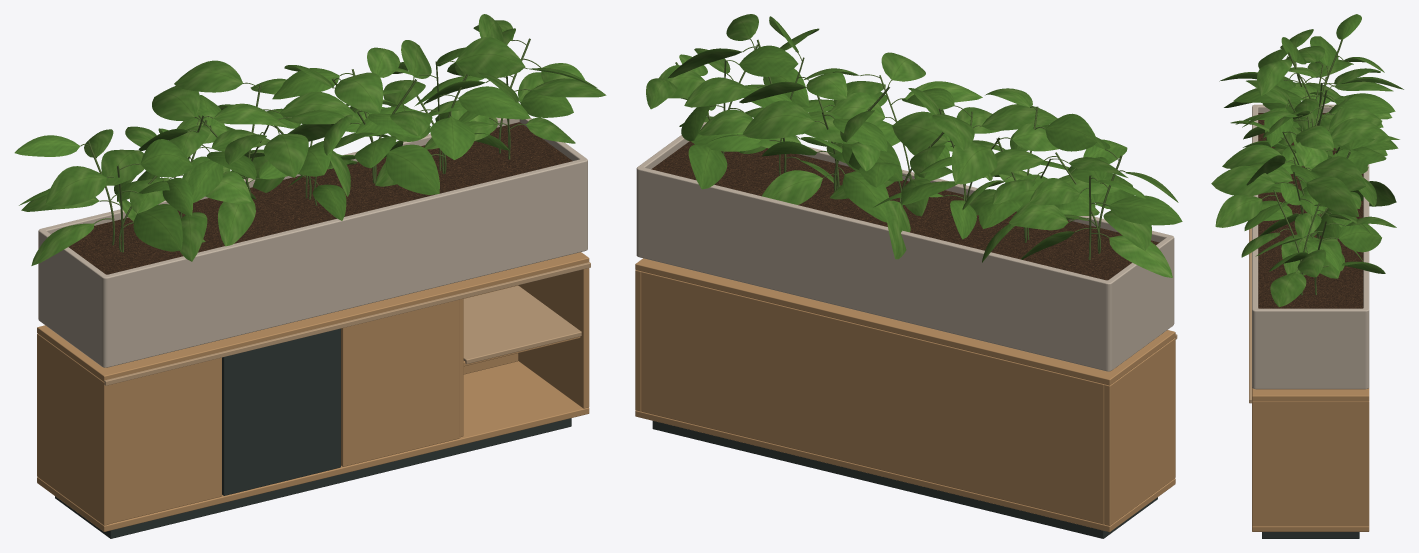
The model's file is botanicalDivider-13.glb.
3 renders of one model, left to right at view 1: azimuth 30°, elevation 25°; view 2: azimuth 150°, elevation 25°; view 3: azimuth 270°, elevation 25°, orthographic. The views are drawn at different scales.
Parts seen in each view (by area): view 1: Planter_pothos_leaves, Planter_oiled_oak, StoragePlanter_Door (×3), StoragePlanter_Side (×2), Planter_loose_soil, StoragePlanter_Bottom, StoragePlanter_Top, StoragePlanter_OpenShelf, StoragePlanter_Plinth, Planter_pothos_stems, StoragePlanter_AccentRail, Planter_matte_accent (+1 smaller); view 2: StoragePlanter_Back, Planter_pothos_leaves, Planter_oiled_oak, Planter_loose_soil, StoragePlanter_Side (×2), StoragePlanter_Top, StoragePlanter_Plinth, StoragePlanter_Bottom, Planter_pothos_stems, Planter_matte_accent; view 3: Planter_pothos_leaves, StoragePlanter_Side, Planter_oiled_oak, Planter_loose_soil, Planter_pothos_stems, StoragePlanter_Top, StoragePlanter_Bottom, StoragePlanter_Plinth, StoragePlanter_AccentRail.
Part boxes in pixels (<box>): Planter_pothos_leaves: <box>14,14,606,265</box>; Planter_oiled_oak: <box>38,117,587,367</box>; StoragePlanter_Door (×3): <box>105,299,459,523</box>; StoragePlanter_Side (×2): <box>37,268,589,525</box>; Planter_loose_soil: <box>68,122,572,274</box>; StoragePlanter_Bottom: <box>37,361,589,531</box>; StoragePlanter_Top: <box>37,252,589,381</box>; StoragePlanter_OpenShelf: <box>463,285,581,364</box>; StoragePlanter_Plinth: <box>55,418,571,538</box>; Planter_pothos_stems: <box>80,38,541,252</box>; StoragePlanter_AccentRail: <box>104,262,590,385</box>; Planter_matte_accent: <box>112,289,331,349</box>; StoragePlanter_Back: <box>641,271,1104,524</box>; Planter_pothos_leaves: <box>646,14,1182,277</box>; Planter_oiled_oak: <box>636,122,1174,371</box>; Planter_loose_soil: <box>651,141,1159,280</box>; StoragePlanter_Side (×2): <box>635,270,1175,525</box>; StoragePlanter_Top: <box>635,258,1175,385</box>; StoragePlanter_Plinth: <box>652,421,1157,538</box>; StoragePlanter_Bottom: <box>635,410,1175,532</box>; Planter_pothos_stems: <box>675,39,1125,259</box>; Planter_matte_accent: <box>643,229,1081,347</box>; Planter_pothos_leaves: <box>1211,14,1403,307</box>; StoragePlanter_Side: <box>1252,401,1369,526</box>; Planter_oiled_oak: <box>1252,104,1369,389</box>; Planter_loose_soil: <box>1258,113,1363,308</box>; Planter_pothos_stems: <box>1262,39,1350,295</box>; StoragePlanter_Top: <box>1252,387,1369,401</box>; StoragePlanter_Bottom: <box>1252,526,1369,531</box>; StoragePlanter_Plinth: <box>1262,532,1359,538</box>; StoragePlanter_AccentRail: <box>1249,228,1251,403</box>.
Bounding box in the file's own units: 2.26 × 1.58 × 0.7924.
10 materials, 2 textured.
